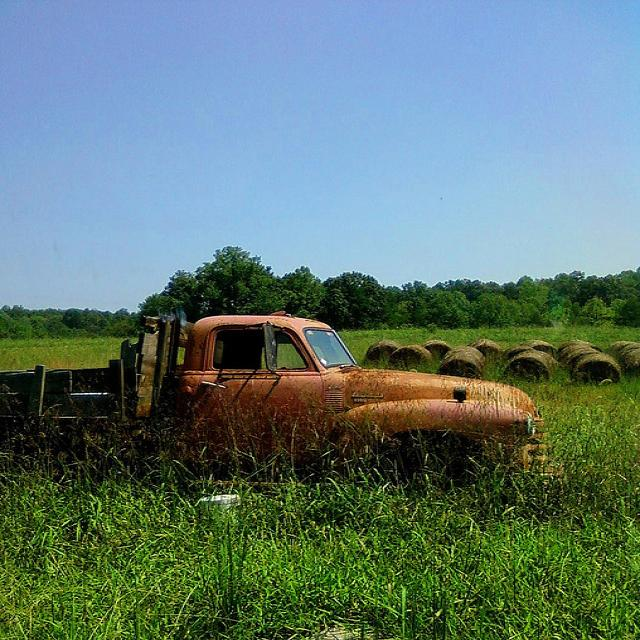Vehicle: (0, 312, 540, 490)
